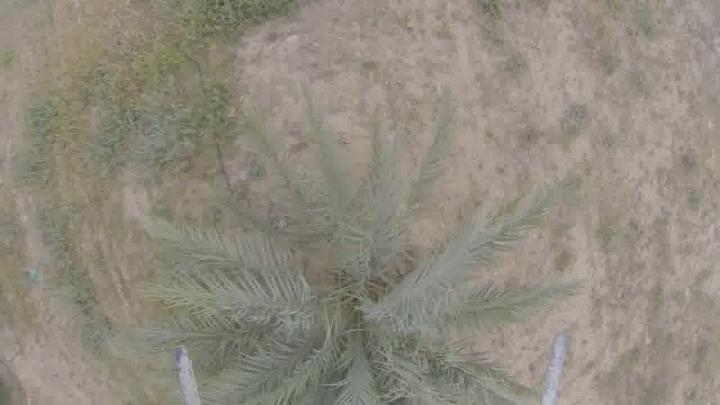Date-Palm-Crown: (215, 232, 457, 404)
